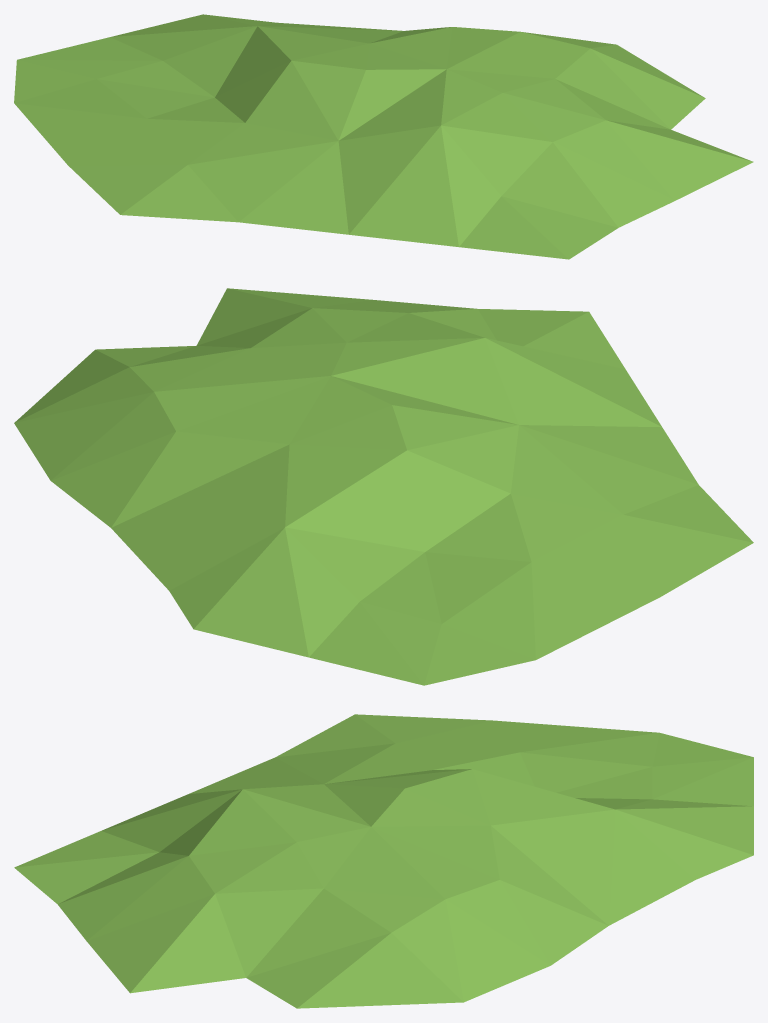
File: MT_Mountain_S_b_23.fbx
The picture shows the model from 3 angles, top to bottom: view 1: azimuth 30°, elevation 25°; view 2: azimuth 150°, elevation 25°; view 3: azimuth 270°, elevation 25°; orthographic projection. The views are drawn at different scales.
Visible parts, largest first — view 1: MT_Mountain_S_b_23; view 2: MT_Mountain_S_b_23; view 3: MT_Mountain_S_b_23.
Boxes of the visible parts, x1=… form: MT_Mountain_S_b_23: x1=14, y1=14, x2=753, y2=259; MT_Mountain_S_b_23: x1=14, y1=288, x2=753, y2=685; MT_Mountain_S_b_23: x1=14, y1=714, x2=753, y2=1008.
Bounding box in the file's own units: 2014 × 216 × 2140.
